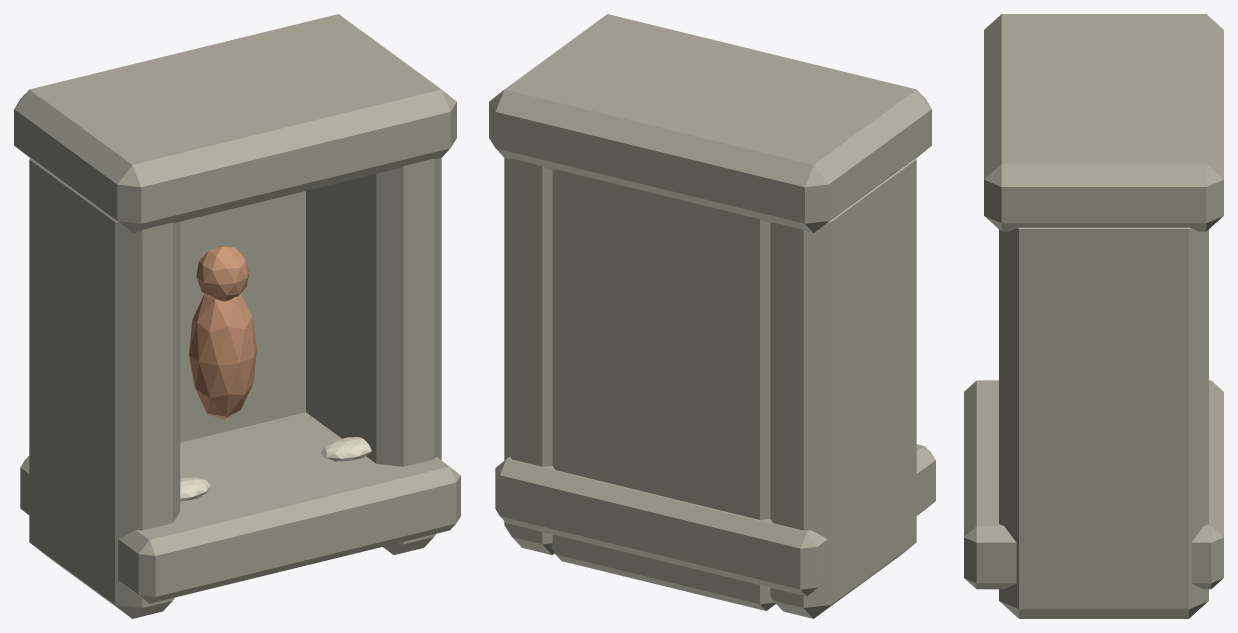
3 renders of one model, left to right at view 1: azimuth 30°, elevation 25°; view 2: azimuth 150°, elevation 25°; view 3: azimuth 270°, elevation 25°, orthographic.
Visible parts, largest first — view 1: CE-060 Shell-offering shore votive niche batched; view 2: CE-060 Shell-offering shore votive niche batched; view 3: CE-060 Shell-offering shore votive niche batched.
Boxes of the visible parts, x1,y1,x2,y2 form: CE-060 Shell-offering shore votive niche batched: [14, 14, 460, 618]; CE-060 Shell-offering shore votive niche batched: [489, 14, 935, 618]; CE-060 Shell-offering shore votive niche batched: [964, 14, 1223, 618].
Bounding box in the file's own units: 0.78 × 1.01 × 0.52.
